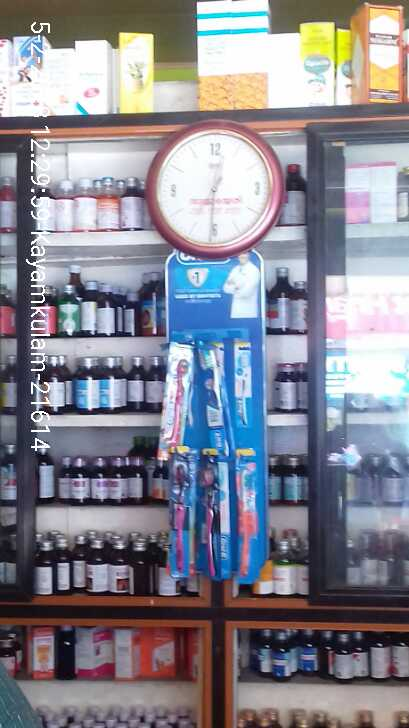oralb: (162, 341, 189, 449), (233, 447, 255, 579), (199, 446, 220, 578), (169, 454, 191, 577), (198, 346, 223, 427)
